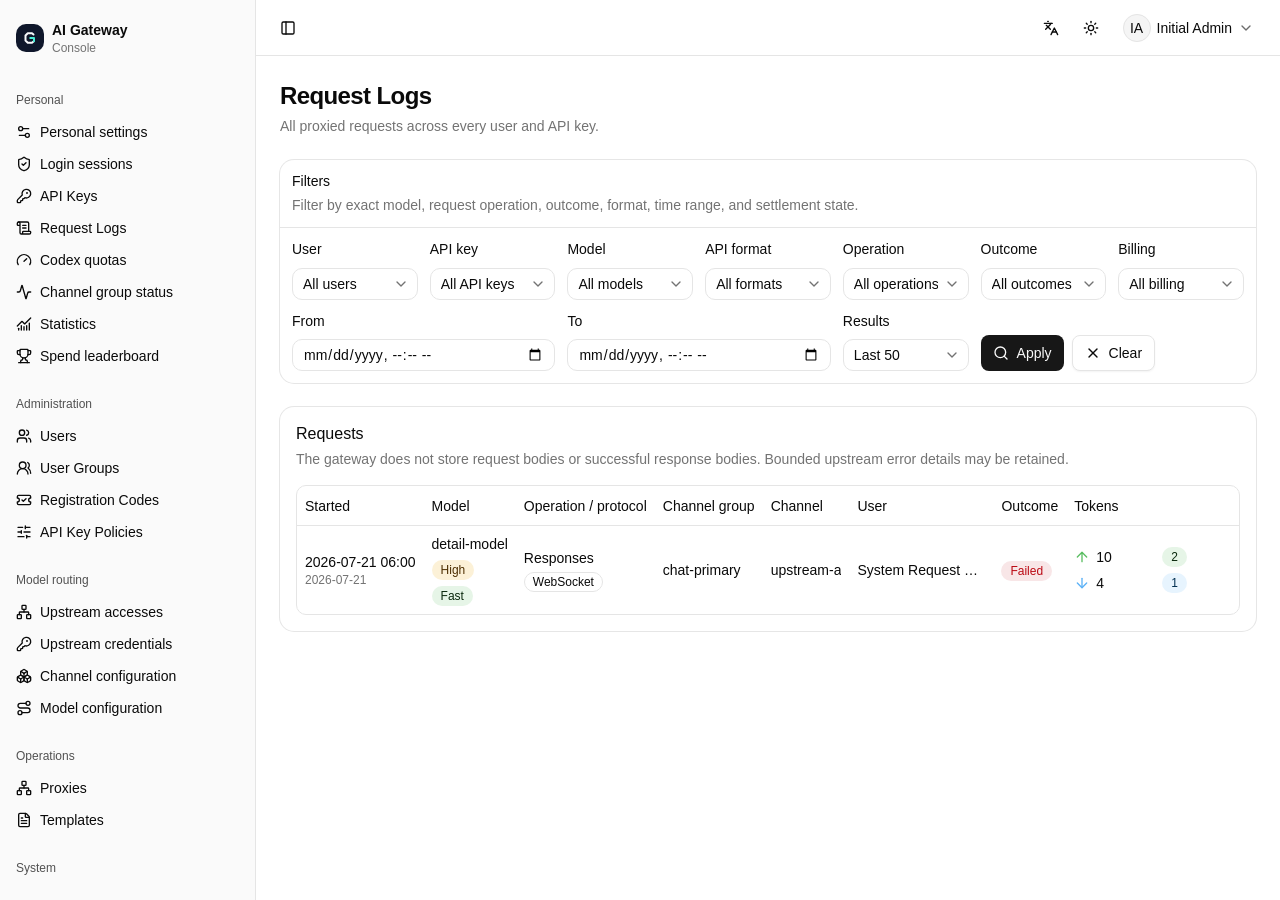
Test case: RequestLogsView › loads administrator request-log details from the admin detail endpoint
The width and height of the screenshot is (1280, 900).
Click the text "detail-model" at (470, 544), box [432, 534, 508, 554]
(page scrolled)
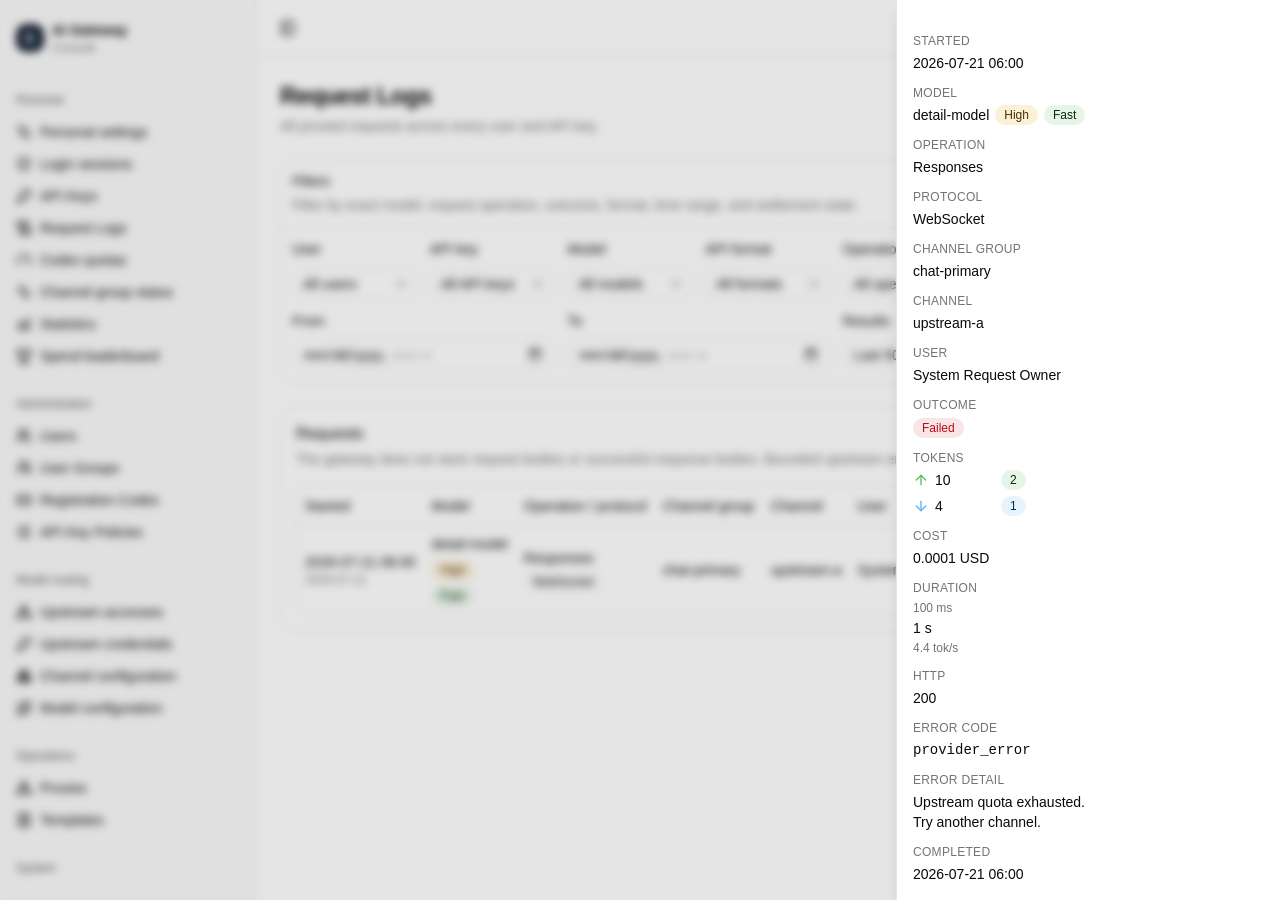
Expected: the text "Completed" is shown, [913, 845, 990, 859]
Expected: the text "provider_error" is shown, [913, 742, 1031, 758]
Expected: the text "Responses" is shown, [913, 159, 983, 175]
